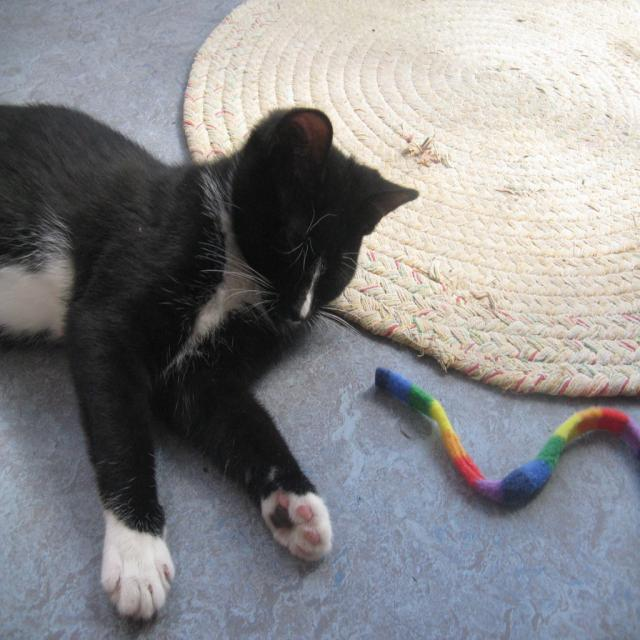Cat: (0, 102, 418, 621)
